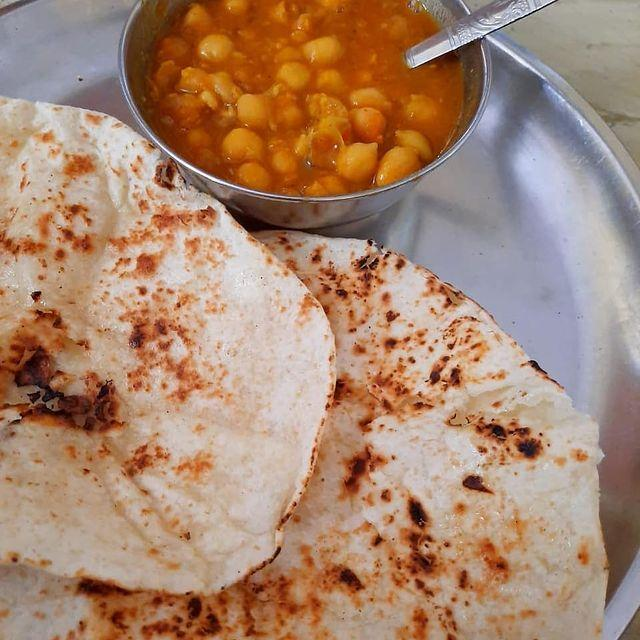Chole: (177, 0, 446, 193)
